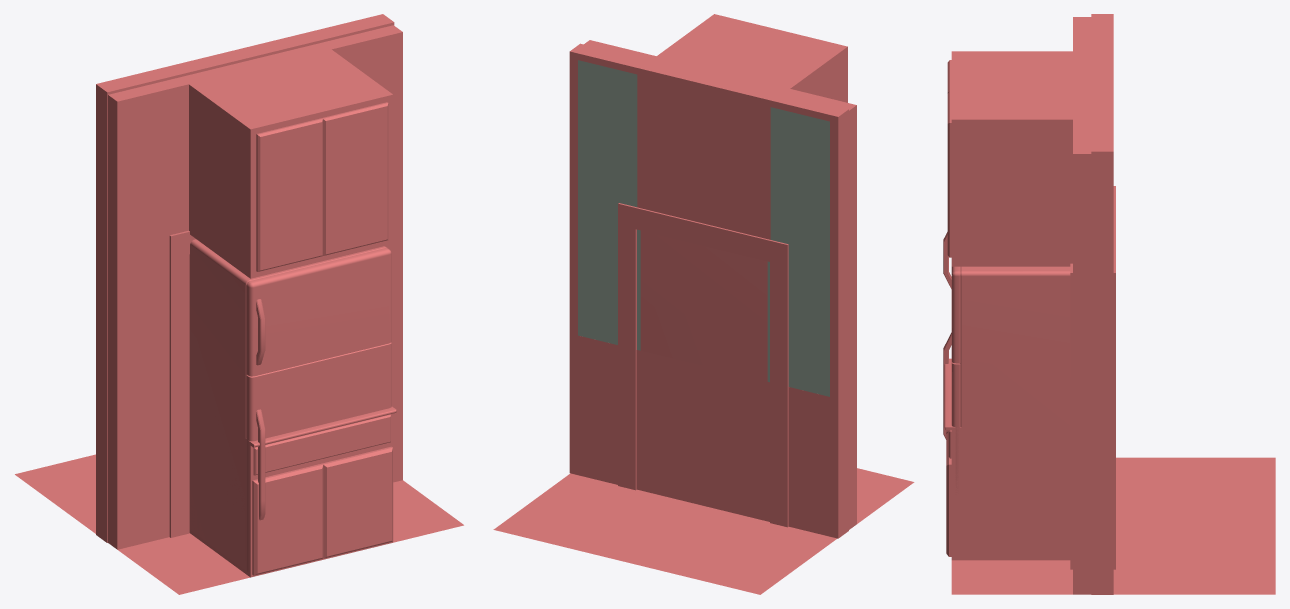
File: Structure_Models.fbx
The picture shows the model from 3 angles, left to right: view 1: azimuth 30°, elevation 25°; view 2: azimuth 150°, elevation 25°; view 3: azimuth 270°, elevation 25°; orthographic projection. The views are drawn at different scales.
Visible parts, largest first — view 1: Fridge, Cabinet, Wall_Blue, Counter, Floor_Wood_Geo, Window_Frame, Door_Frame_Geo, Wall_Blue_Door, ShortWall_Painted_Geo; view 2: Glass_Wall, Cabinet, Floor_Wood_Geo, Counter, ShortWall_Painted_Geo, Fridge, Window_Frame, Door_Frame_Geo, Wall_Blue_Door, Wall_Office_Geo, Wall_Blue; view 3: Fridge, Cabinet, Floor_Wood_Geo, Window_Frame, Counter, Wall_Blue, Wall_Office_Geo, ShortWall_Painted_Geo, Door_Frame_Geo, Wall_Blue_Door.
Part boxes in pixels (x1,y1,x2,y2): Fridge: (189,239,391,571); Cabinet: (185,49,393,278); Wall_Blue: (108,25,402,549); Counter: (189,406,396,577); Floor_Wood_Geo: (15,454,463,594); Window_Frame: (96,14,394,542); Door_Frame_Geo: (169,230,195,537); Wall_Blue_Door: (108,25,401,416); ShortWall_Painted_Geo: (108,394,117,549); Glass_Wall: (578,60,829,396); Cabinet: (637,14,847,239); Floor_Wood_Geo: (493,468,914,594); Counter: (637,363,769,521); ShortWall_Painted_Geo: (570,333,837,538); Fridge: (640,230,767,381); Window_Frame: (569,43,848,538); Door_Frame_Geo: (618,203,788,527); Wall_Blue_Door: (606,44,856,529); Wall_Office_Geo: (612,45,856,529); Wall_Blue: (584,40,856,527); Fridge: (943,232,1070,512); Cabinet: (947,51,1090,266); Floor_Wood_Geo: (951,457,1275,594); Window_Frame: (1091,14,1113,594); Counter: (944,358,1070,560); Wall_Blue: (1073,17,1091,594); Wall_Office_Geo: (1073,17,1091,591); ShortWall_Painted_Geo: (1073,447,1091,594); Door_Frame_Geo: (1070,186,1115,569); Wall_Blue_Door: (1073,154,1091,594).
Size of the model in its own units: 2.01 by 3.02 by 2.05.
